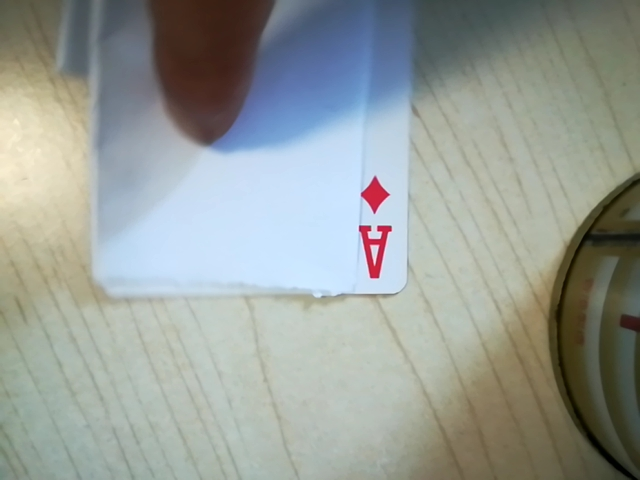fk a: (343, 169, 395, 288)
